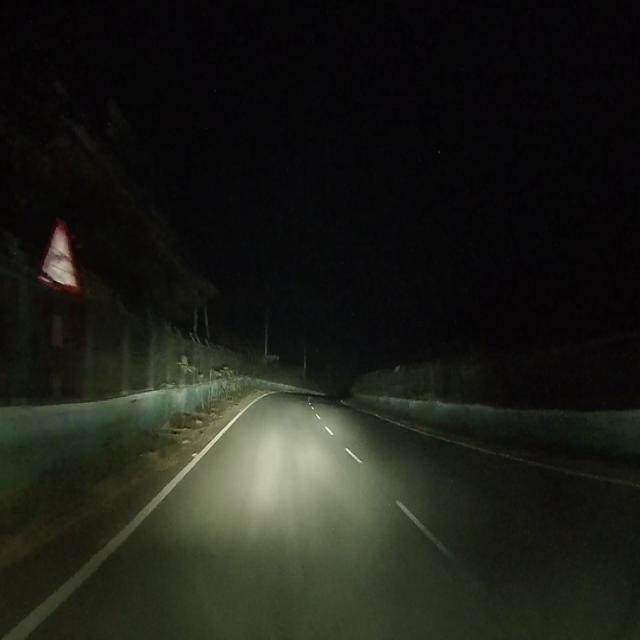right-hand-curve: (43, 220, 77, 288)
